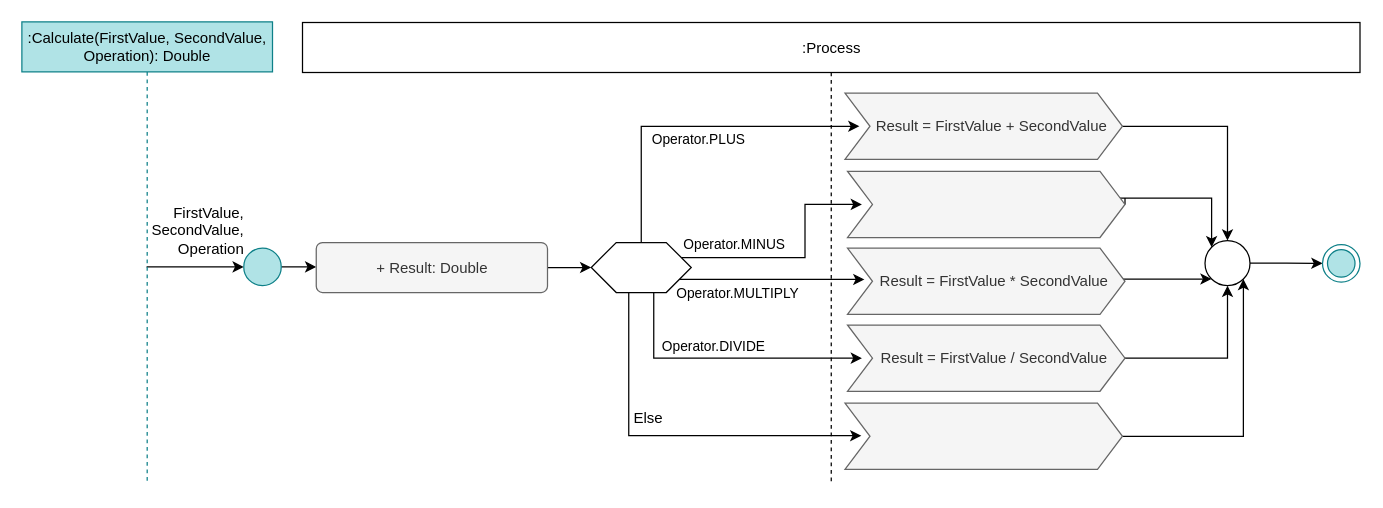
This 1383x508 diagram has some shape labels left out. The centre of each missing label's shape, as x and y in pixels:
"Operation" goes at pixel 640 266.
"Result" goes at pixel 1340 262.
"Result = FirstValue" goes at pixel 983 435.
"Result = FirstValue - SecondValue" goes at pixel 985 204.
